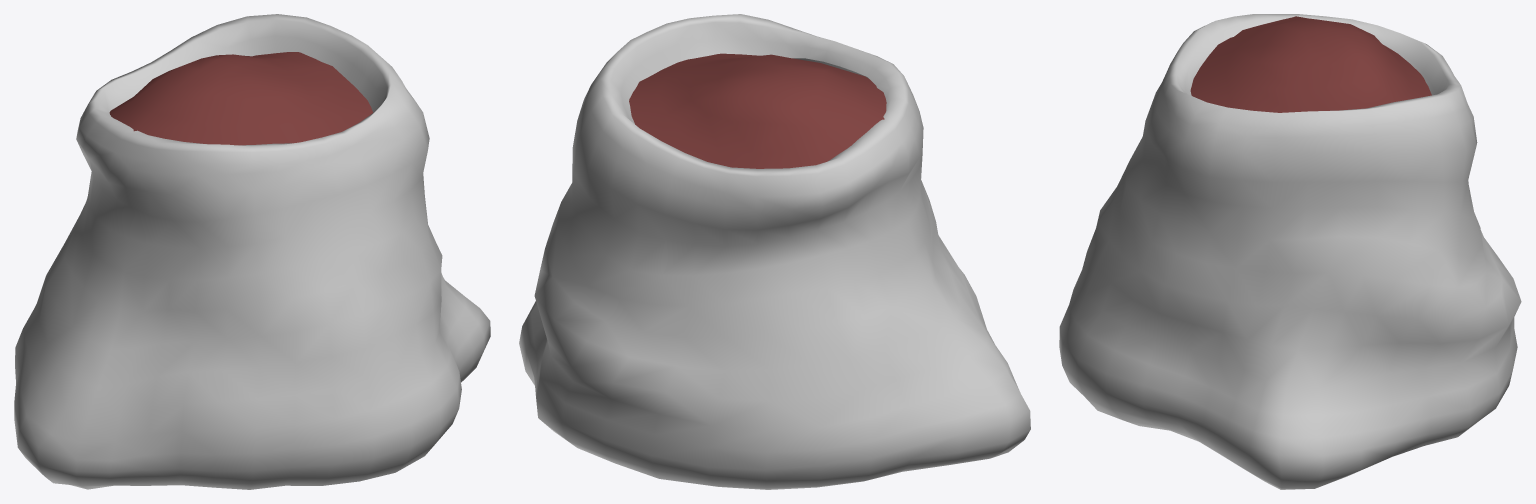
The model's file is Sack_1.fbx.
The picture shows the model from 3 angles, left to right: view 1: azimuth 30°, elevation 25°; view 2: azimuth 150°, elevation 25°; view 3: azimuth 270°, elevation 25°; orthographic projection. The views are drawn at different scales.
Visible parts, largest first — view 1: Sack_1_LOD0; view 2: Sack_1_LOD0; view 3: Sack_1_LOD0.
Part boxes in pixels (left/top/right/bottom): Sack_1_LOD0: left=14, top=14, right=490, bottom=489; Sack_1_LOD0: left=519, top=14, right=1030, bottom=489; Sack_1_LOD0: left=1059, top=14, right=1521, bottom=489.
Size of what is drawn, in the model's own units: 118 by 83.96 by 100.
